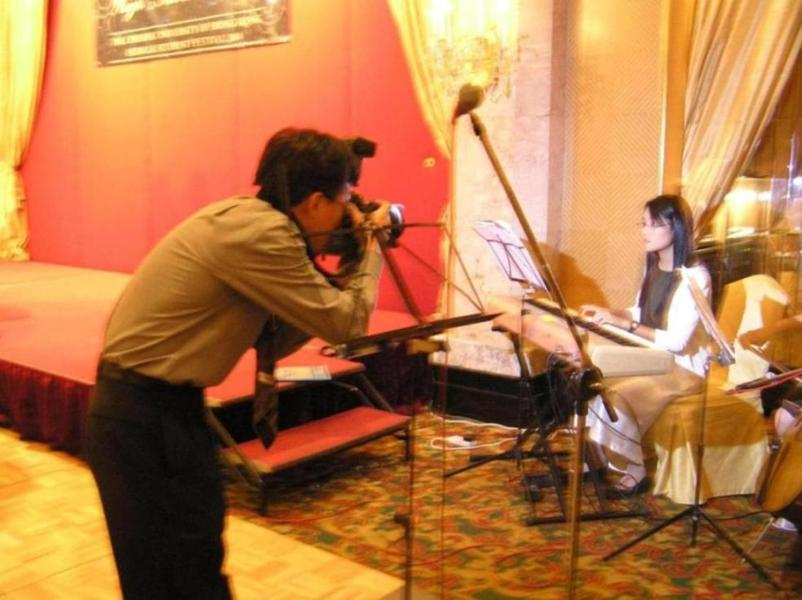person: (82, 128, 402, 598)
